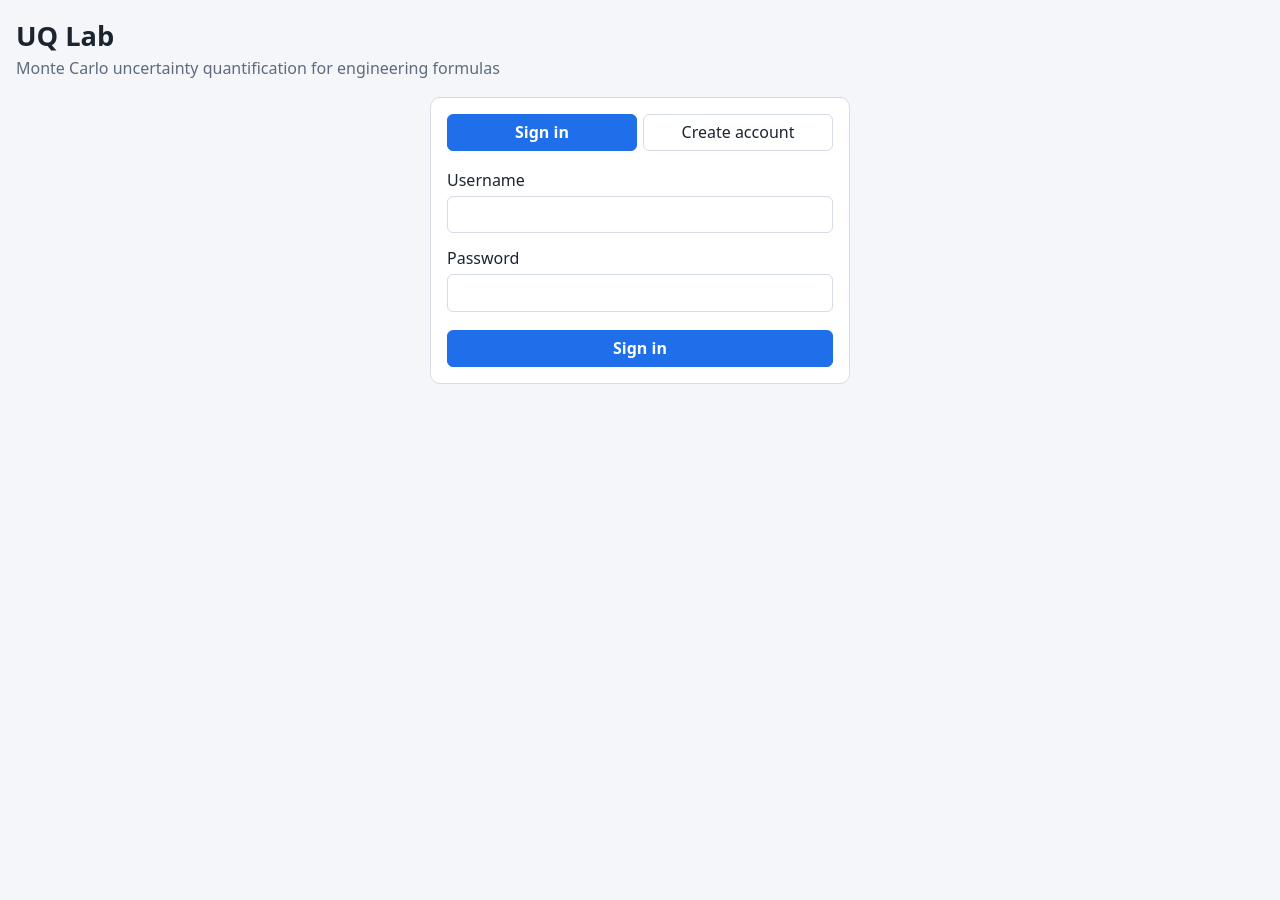
sign in and out › signs in, remembers the session, and sends the token with every request
Type "Alice" into the field labelled "Username" at (640, 215), box [447,196,833,233]
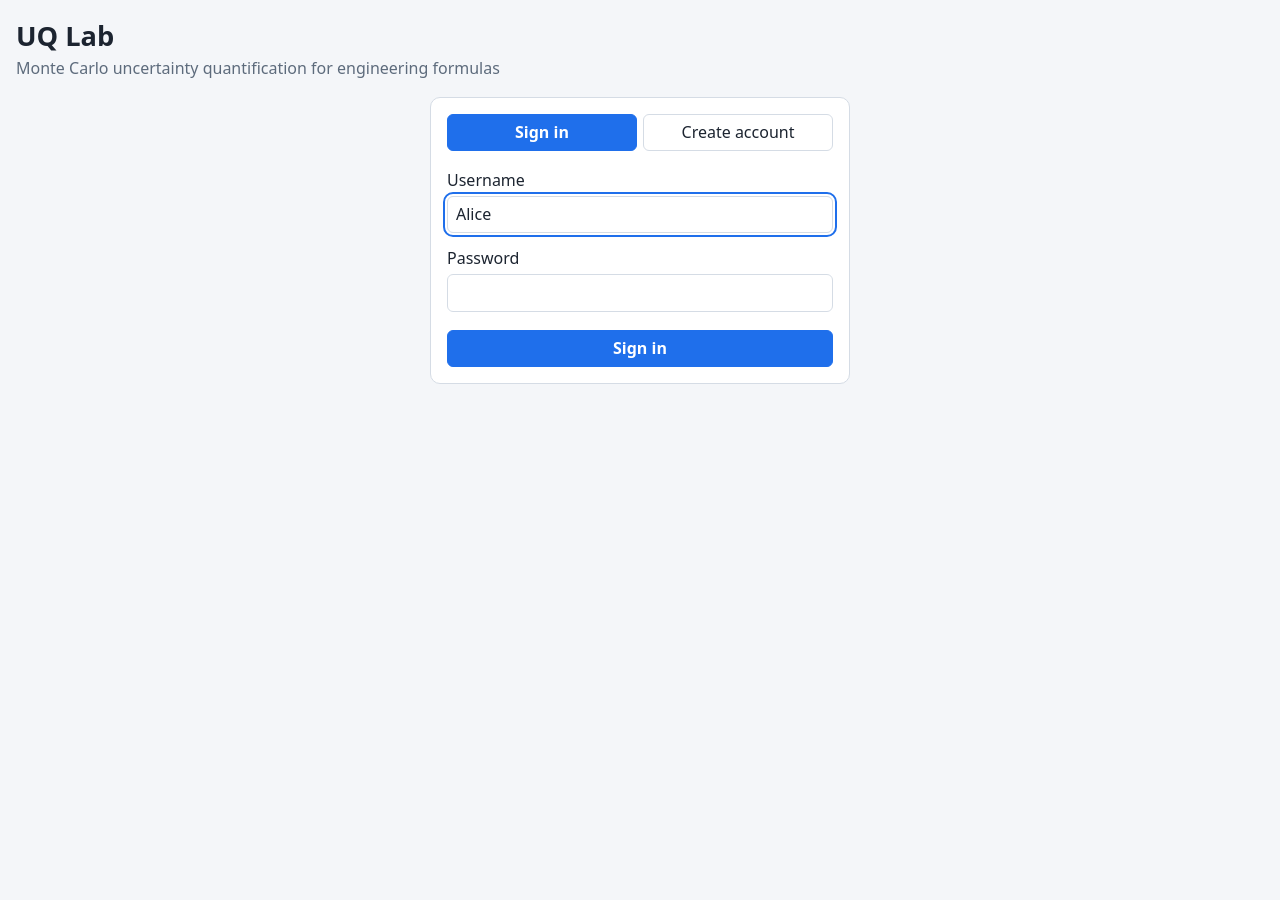
Type "password123" into the password field labelled "Password" at (640, 293), box [447,274,833,312]
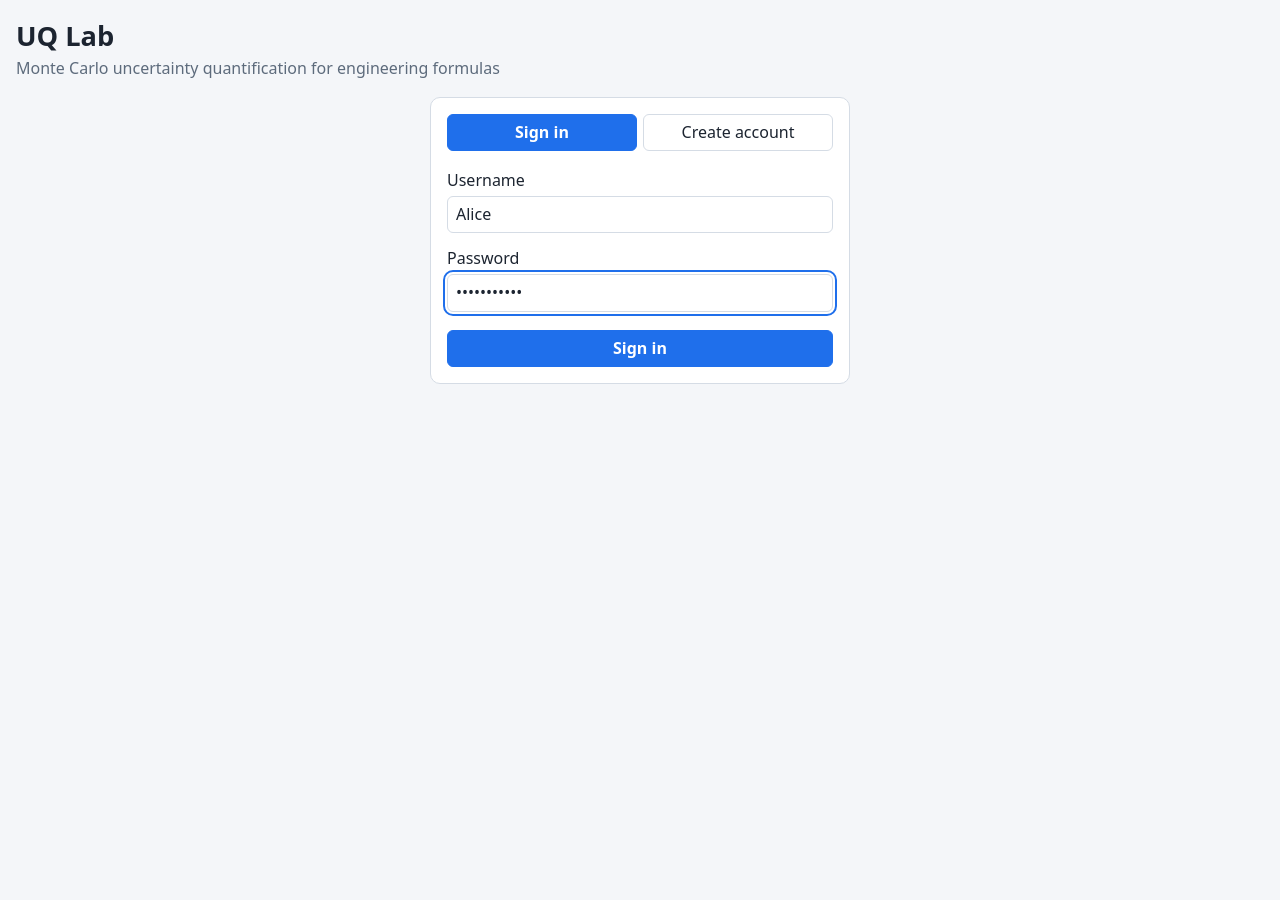
Click the submit button at (640, 348), box [447,330,833,367]
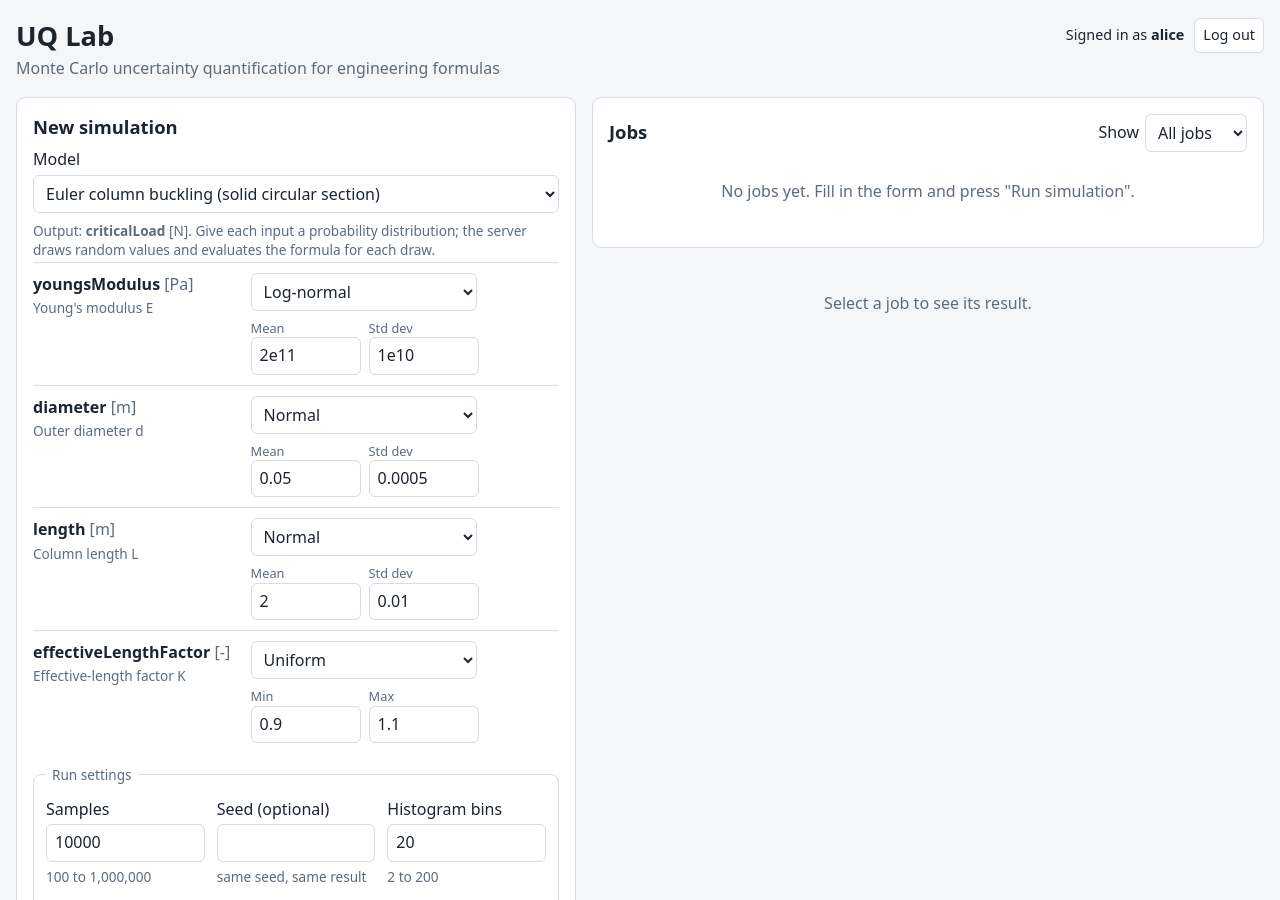
Check: the heading "New simulation" is shown, box [33,114,178,139]
Check: the text "alice" is shown, box [1151,25,1184,44]
